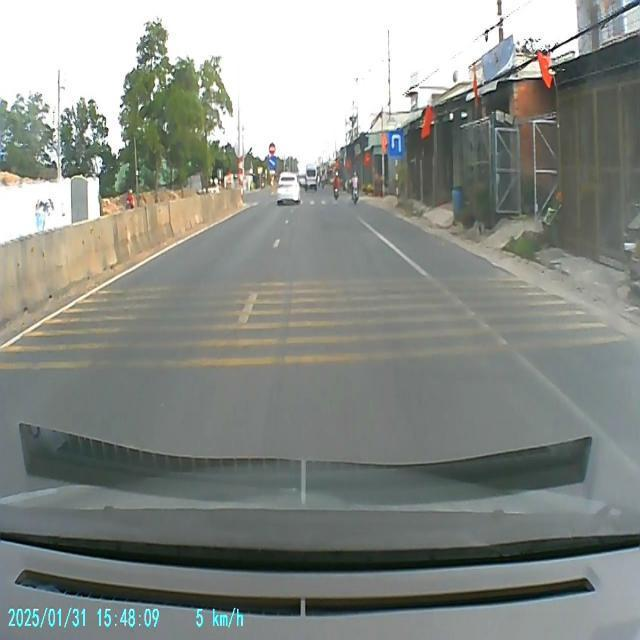102-cam-di-nguoc-chieu: (269, 142, 275, 154)
302a-huong-phai-di-vong-chuong-ngai-vat-1: (268, 154, 276, 170)
